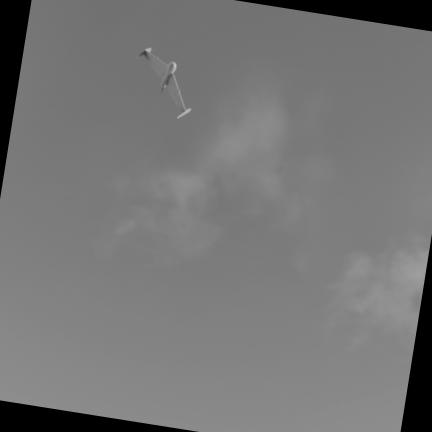Shahed: (137, 48, 190, 118)
